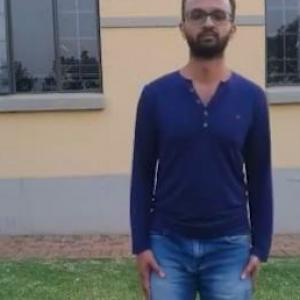follow: (130, 0, 276, 299)
